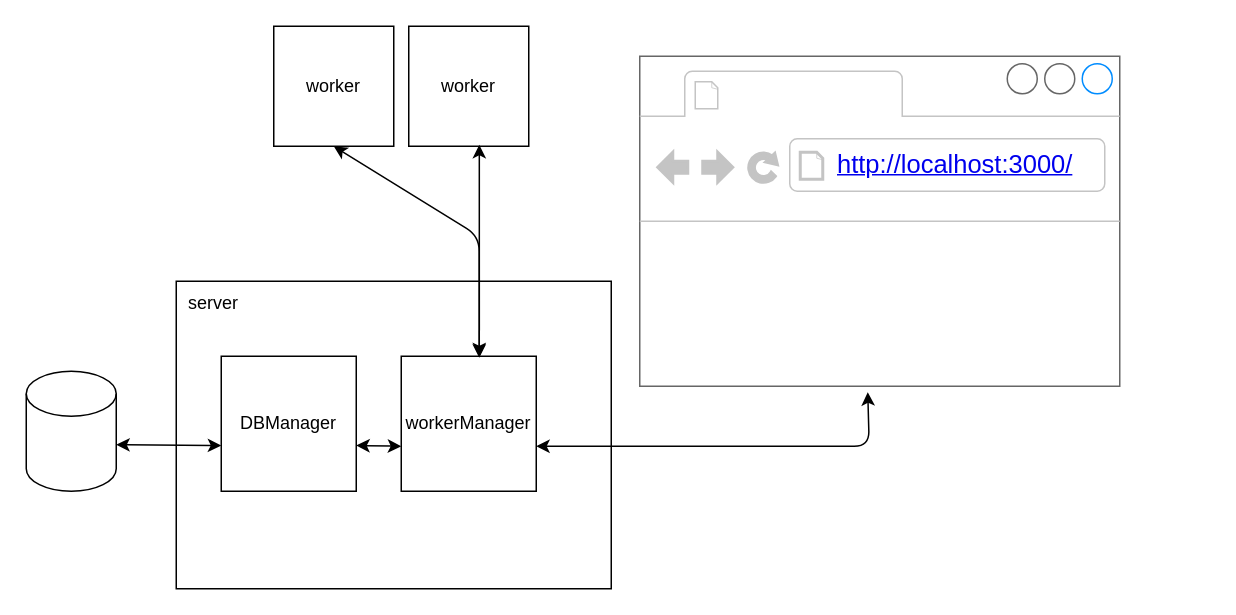
The diagram is 1236 pixels wide and 615 high, and some of its shapes have lost their labels. The centre of each missing label's shape, as x and y in pixels:
"db" goes at (x=70, y=430).
"WebCrawler" goes at (x=811, y=93).
